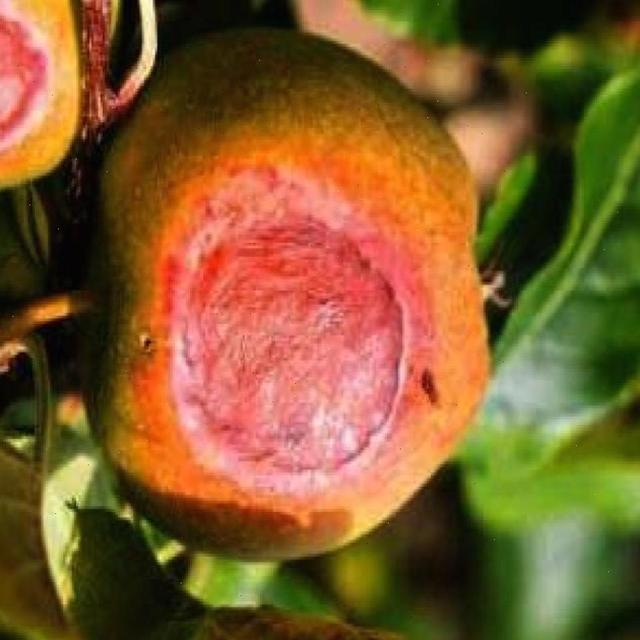Sunscald Fruit: (97, 109, 278, 340)
